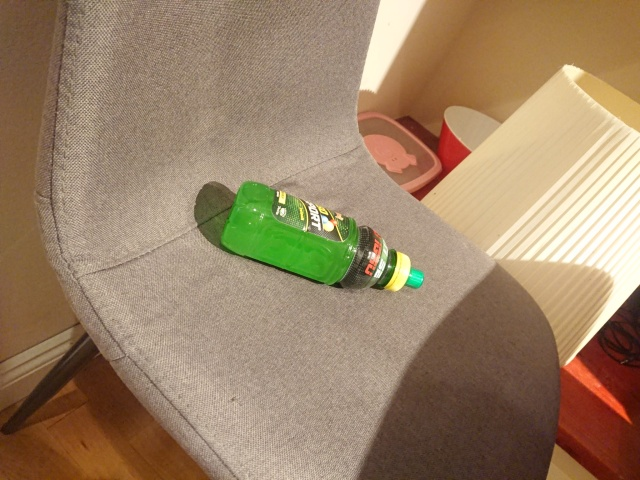Vindi Iso Sport Lemon-Grapefruit 500mL: (217, 179, 427, 294)
